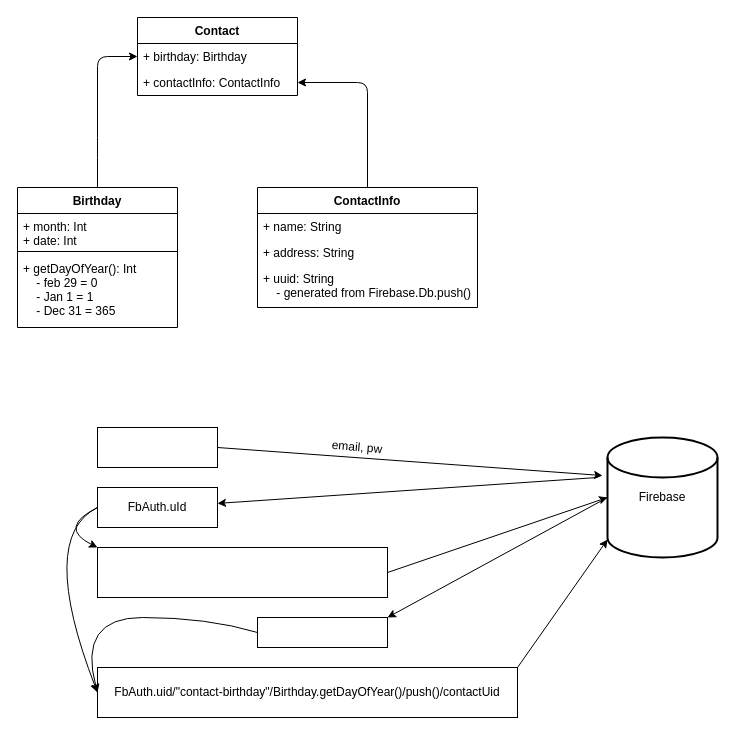
This 736x735 diagram has some shape labels left out. Here are the shapes that lost their labels. From the top down, the centre of each, then its label:
pixel 157 447: Login
pixel 242 572: FbAuth.uid/"contact-info"/<push().key>/ContactInfo
pixel 322 632: pushKey as ContactUid
